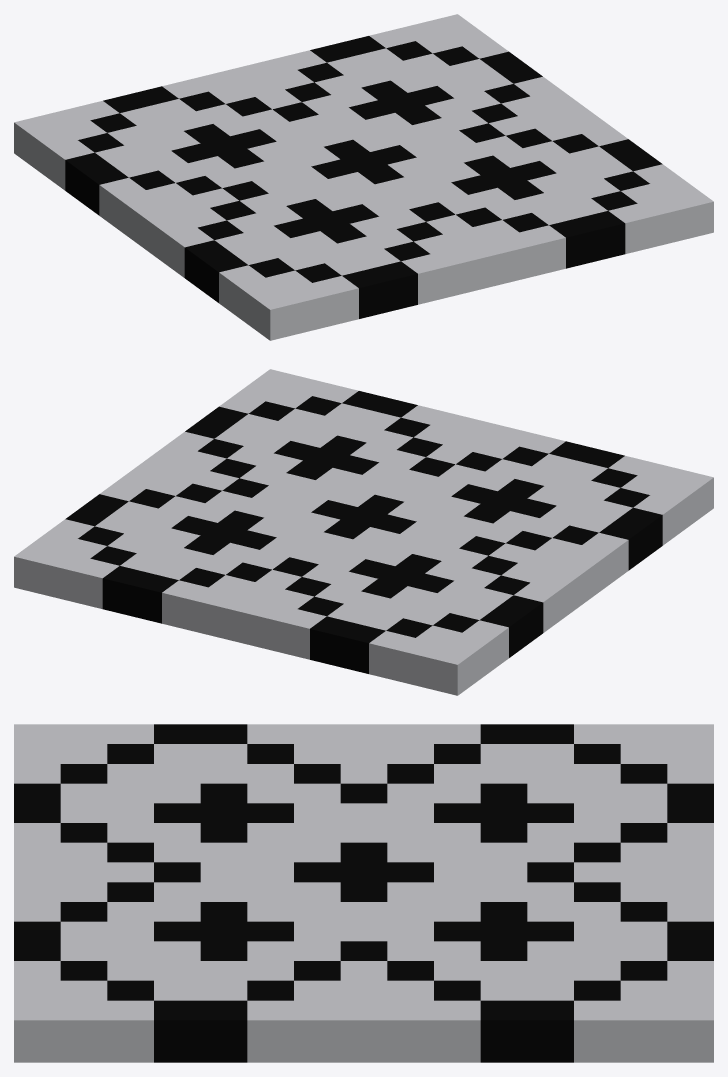
The model's file is dungeon_d_b_ground_d_b.obj.
3 views of the same model, one above another, from view 1: azimuth 30°, elevation 25°; view 2: azimuth 150°, elevation 25°; view 3: azimuth 270°, elevation 25° (orthographic). The views are drawn at different scales.
Size of the model in its own units: 1.5 by 0.1 by 1.5.
1 material, 1 textured.
